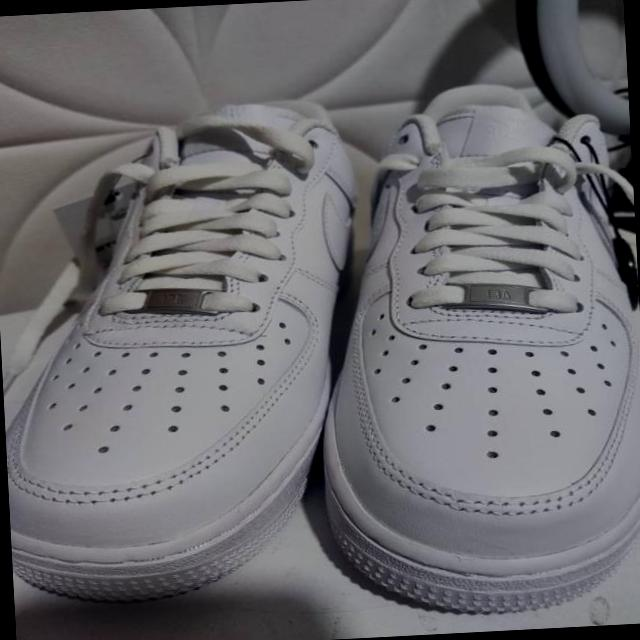nike_original_airforce: (0, 93, 383, 615), (298, 57, 640, 625)
